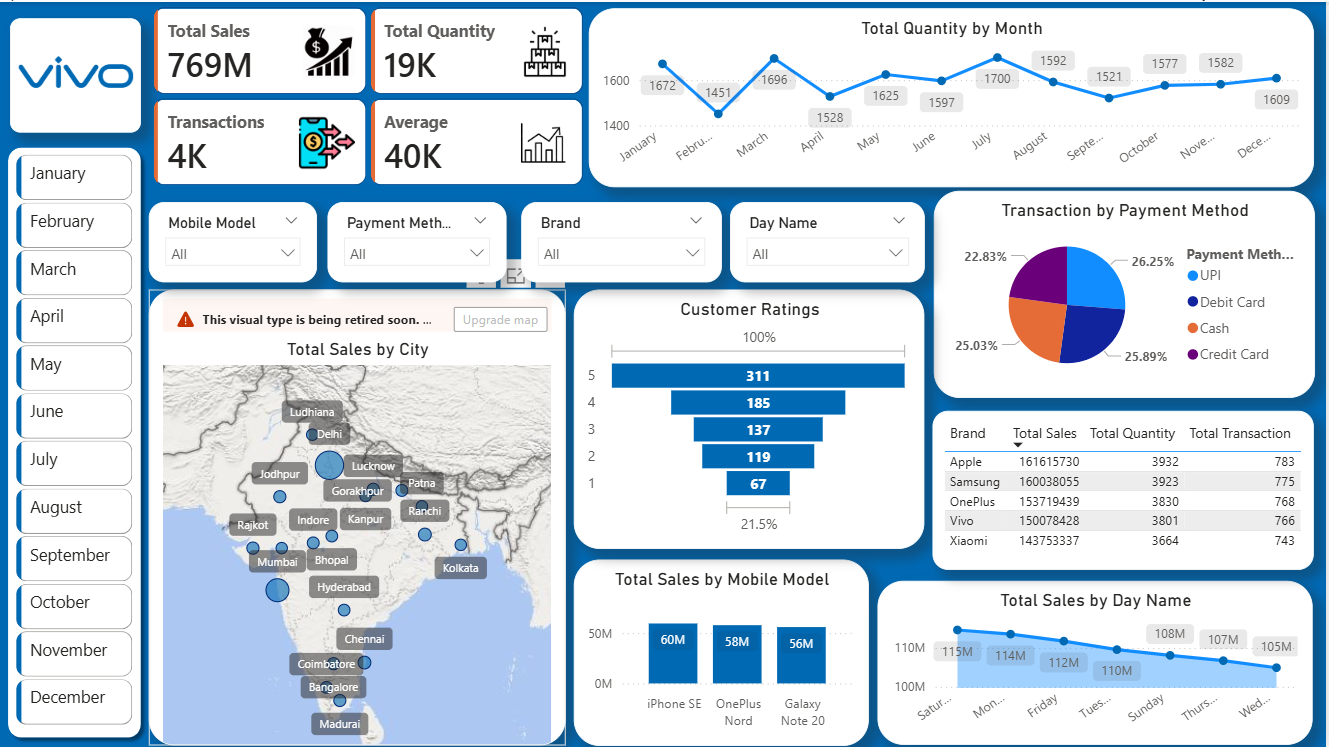

The dashboard page shown, as its layout file describes it:
{"tool":"powerbi","page":{"name":"Page 1","canvas":[1280,720],"ordinal":0},"visuals":[{"type":"shape","box":[10,16.2,126.2,110],"z":0},{"type":"image","box":[18,16,110,104],"z":1000},{"type":"cardVisual","fields":{"Data":["Sales_Data.Total Sales","Sales_Data.Total Quantity","Sales_Data.Total Transaction","Sales_Data.Average"]},"box":[143.6,0,424.7,182.2],"z":2000},{"type":"map","fields":{"Category":["Sales_Data.City"],"Size":["Sales_Data.Total Sales"]},"box":[143.8,277.5,402.5,440],"z":3000},{"type":"lineChart","fields":{"Category":["Sales_Data.Date.Variation.Date Hierarchy.Month","Sales_Data.Date.Variation.Date Hierarchy.Day"],"Y":["Sales_Data.Total Quantity"]},"box":[568.2,6,699.7,172.5],"z":4000},{"type":"shape","box":[0,132.5,143.8,585],"z":5000},{"type":"advancedSlicerVisual","fields":{"Values":["Sales_Data.Date.Variation.Date Hierarchy.Month"]},"box":[11.2,142.5,122.5,563.8],"z":6000},{"type":"columnChart","fields":{"Y":["Sales_Data.Total Sales"],"Category":["Sales_Data.Mobile Model"]},"box":[553.8,537.5,285,180],"z":7000},{"type":"pieChart","title":"Transaction by Payment Method","fields":{"Category":["Sales_Data.Payment Method"],"Y":["Sales_Data.Total Transaction"]},"box":[901.2,182.2,368,200.3],"z":8000},{"type":"funnel","title":"Customer Ratings ","fields":{"Category":["Sales_Data.Customer Ratings"],"Y":["CountNonNull(Sales_Data.Customer Ratings)"]},"box":[553.8,277.5,338.8,250],"z":9000},{"type":"areaChart","fields":{"Category":["Sales_Data.Day Name"],"Y":["Sales_Data.Total Sales"]},"box":[847.5,558.8,420,158.8],"z":10000},{"type":"slicer","fields":{"Values":["Sales_Data.Mobile Model"]},"box":[143.8,192.5,162.5,77.5],"z":11000},{"type":"slicer","fields":{"Values":["Sales_Data.Payment Method"]},"box":[316.2,192.5,172.5,77.5],"z":12000},{"type":"slicer","fields":{"Values":["Sales_Data.Brand"]},"box":[502.5,192.5,193.8,77.5],"z":13000},{"type":"slicer","fields":{"Values":["Sales_Data.Day Name"]},"box":[704.6,193,188.2,77.2],"z":14000},{"type":"tableEx","fields":{"Values":["Sales_Data.Brand","Sales_Data.Total Sales","Sales_Data.Total Quantity","Sales_Data.Total Transaction"]},"box":[900,394.5,368,153.2],"z":15000}]}

Visuals, with their boxes in screenshot pixels (x1, y1, x2, y2), scaled from the page's 1280x720 canvas onto the 1329x747 screenshot:
shape: [left=10, top=17, right=141, bottom=131]
image: [left=19, top=17, right=133, bottom=125]
cardVisual - Sales_Data.Total Sales x Sales_Data.Total Quantity: [left=149, top=0, right=590, bottom=189]
map - Sales_Data.City x Sales_Data.Total Sales: [left=149, top=288, right=567, bottom=744]
lineChart - Sales_Data.Date.Variation.Date Hierarchy.Month x Sales_Data.Date.Variation.Date Hierarchy.Day: [left=590, top=6, right=1316, bottom=185]
shape: [left=0, top=137, right=149, bottom=744]
advancedSlicerVisual - Sales_Data.Date.Variation.Date Hierarchy.Month: [left=12, top=148, right=139, bottom=733]
columnChart - Sales_Data.Total Sales x Sales_Data.Mobile Model: [left=575, top=558, right=871, bottom=744]
"Transaction by Payment Method" pieChart: [left=936, top=189, right=1318, bottom=397]
"Customer Ratings " funnel: [left=575, top=288, right=927, bottom=547]
areaChart - Sales_Data.Day Name x Sales_Data.Total Sales: [left=880, top=580, right=1316, bottom=745]
slicer - Sales_Data.Mobile Model: [left=149, top=200, right=318, bottom=280]
slicer - Sales_Data.Payment Method: [left=328, top=200, right=507, bottom=280]
slicer - Sales_Data.Brand: [left=522, top=200, right=723, bottom=280]
slicer - Sales_Data.Day Name: [left=732, top=200, right=927, bottom=280]
tableEx - Sales_Data.Brand x Sales_Data.Total Sales: [left=934, top=409, right=1317, bottom=568]
